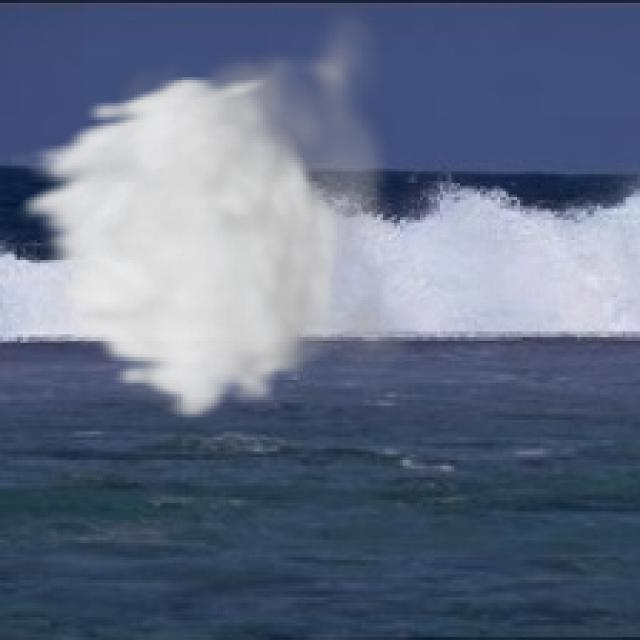smoke: (11, 0, 420, 423)
